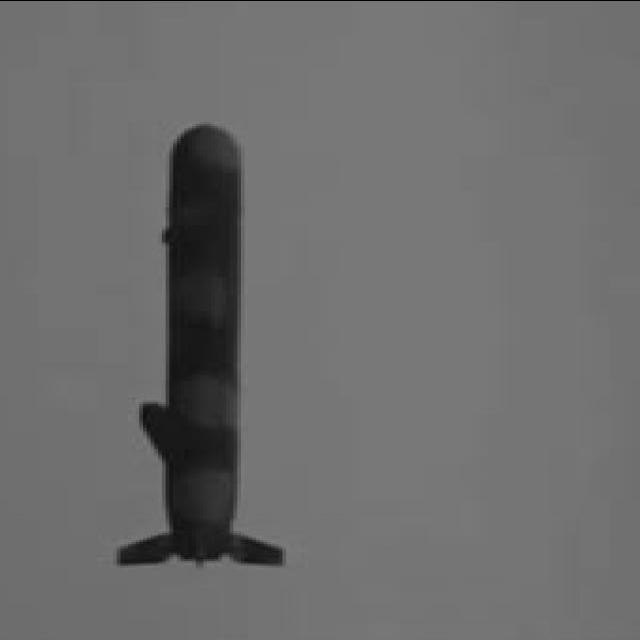Missile: (104, 104, 296, 586)
